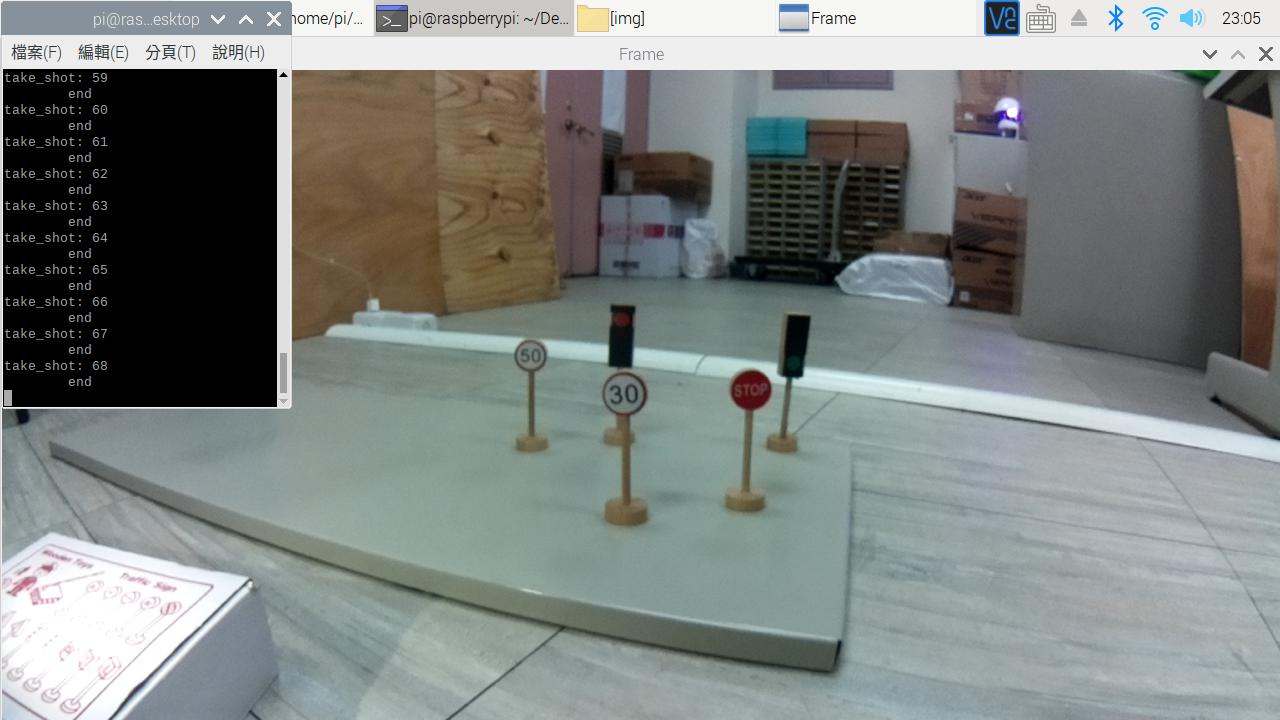Green: (778, 307, 813, 378)
Red: (605, 298, 639, 368)
Speed30: (599, 375, 653, 418)
Speed50: (510, 339, 557, 375)
Stop: (724, 369, 779, 415)
